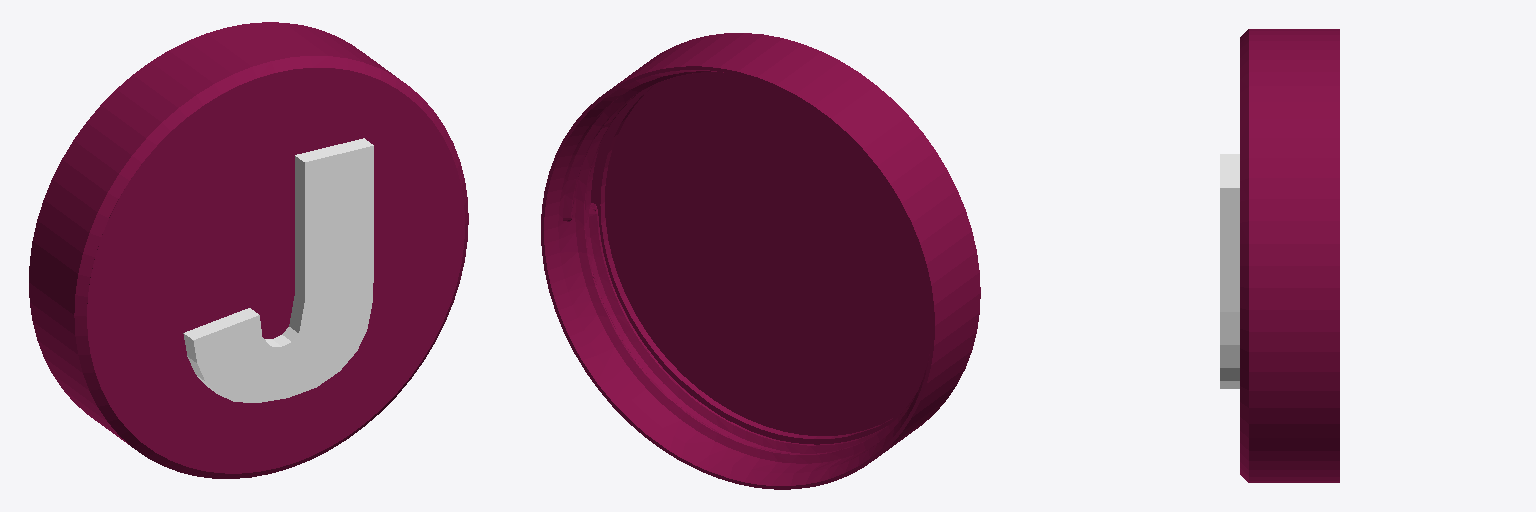
Rendered from tinker.obj.
The picture shows the model from 3 angles: view 1: azimuth 30°, elevation 25°; view 2: azimuth 150°, elevation 25°; view 3: azimuth 270°, elevation 25°; orthographic projection.
Visible parts, largest first — view 1: obj_0; view 2: obj_0; view 3: obj_0.
Part boxes in pixels (bbox=[...]): obj_0: bbox=[29, 22, 468, 478]; obj_0: bbox=[541, 33, 980, 489]; obj_0: bbox=[1220, 29, 1339, 482].
Bounding box in the file's own units: 79.53 × 79.51 × 21.